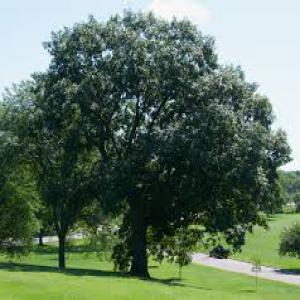Tree: (39, 10, 287, 274)
